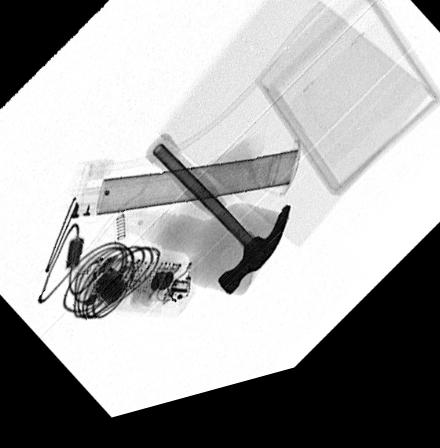Hammer: (145, 142, 291, 308)
